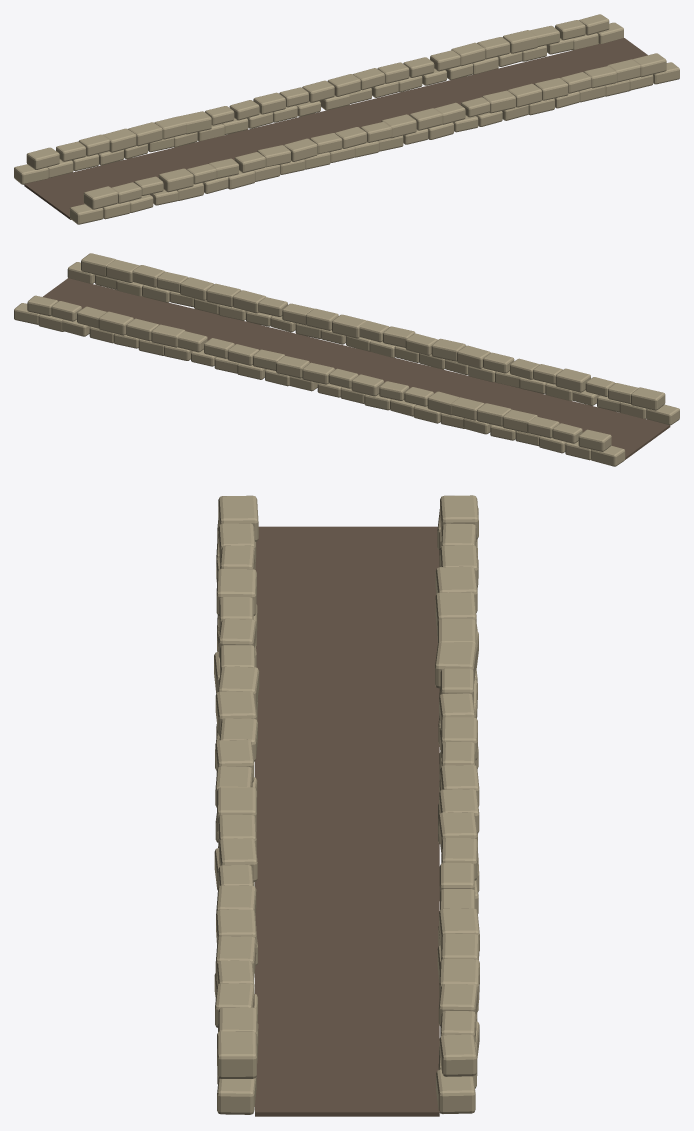
File: trinchera.glb
The picture shows the model from 3 angles, top to bottom: view 1: azimuth 30°, elevation 25°; view 2: azimuth 150°, elevation 25°; view 3: azimuth 270°, elevation 25°; orthographic projection. The views are drawn at different scales.
Visible parts, largest first — view 1: Trinchera, Saco_Derecho_1_0, Saco_Derecho_1_3, Saco_Izquierdo_1_19, Saco_Izquierdo_1_0, Saco_Izquierdo_1_3, Saco_Izquierdo_1_4, Saco_Derecho_1_22, Saco_Derecho_1_17, Saco_Derecho_1_8, Saco_Derecho_1_12, Saco_Derecho_1_18 (+43 smaller); view 2: Trinchera, Saco_Derecho_1_0, Saco_Derecho_1_3, Saco_Izquierdo_1_19, Saco_Izquierdo_1_0, Saco_Derecho_1_12, Saco_Izquierdo_1_4, Saco_Derecho_1_17, Saco_Izquierdo_1_17, Saco_Derecho_1_18, Saco_Izquierdo_1_3, Saco_Derecho_1_8 (+46 smaller); view 3: Trinchera, Saco_Derecho_1_22, Saco_Izquierdo_1_22, Saco_Izquierdo_0_23, Saco_Derecho_0_23, Saco_Derecho_1_3, Saco_Izquierdo_1_6, Saco_Derecho_1_0, Saco_Derecho_1_8, Saco_Derecho_1_12, Saco_Izquierdo_1_0, Saco_Izquierdo_1_4 (+24 smaller).
Part boxes in pixels (left/top/right/bottom): Trinchera: left=24, top=38, right=647, bottom=219; Saco_Derecho_1_0: left=83, top=186, right=117, bottom=209; Saco_Derecho_1_3: left=158, top=168, right=193, bottom=192; Saco_Izquierdo_1_19: left=502, top=30, right=537, bottom=53; Saco_Izquierdo_1_0: left=26, top=147, right=59, bottom=169; Saco_Izquierdo_1_3: left=103, top=128, right=136, bottom=152; Saco_Izquierdo_1_4: left=128, top=122, right=162, bottom=146; Saco_Derecho_1_22: left=632, top=53, right=666, bottom=77; Saco_Derecho_1_17: left=508, top=83, right=541, bottom=107; Saco_Derecho_1_8: left=284, top=138, right=317, bottom=161; Saco_Derecho_1_12: left=381, top=114, right=416, bottom=138; Saco_Derecho_1_18: left=534, top=78, right=568, bottom=100; Trinchera: left=43, top=278, right=670, bottom=459; Saco_Derecho_1_0: left=631, top=387, right=665, bottom=410; Saco_Derecho_1_3: left=555, top=368, right=590, bottom=392; Saco_Izquierdo_1_19: left=98, top=311, right=133, bottom=335; Saco_Izquierdo_1_0: left=578, top=429, right=611, bottom=451; Saco_Derecho_1_12: left=332, top=314, right=366, bottom=338; Saco_Izquierdo_1_4: left=476, top=403, right=511, bottom=426; Saco_Derecho_1_17: left=206, top=283, right=240, bottom=307; Saco_Izquierdo_1_17: left=151, top=324, right=185, bottom=347; Saco_Derecho_1_18: left=180, top=277, right=213, bottom=300; Saco_Izquierdo_1_3: left=502, top=409, right=537, bottom=433; Saco_Derecho_1_8: left=431, top=338, right=465, bottom=361; Trinchera: left=255, top=526, right=439, bottom=1116; Saco_Derecho_1_22: left=217, top=1031, right=256, bottom=1078; Saco_Izquierdo_1_22: left=439, top=1034, right=476, bottom=1076; Saco_Izquierdo_0_23: left=436, top=1069, right=475, bottom=1113; Saco_Derecho_0_23: left=217, top=1076, right=256, bottom=1114; Saco_Derecho_1_3: left=216, top=569, right=256, bottom=615; Saco_Izquierdo_1_6: left=435, top=642, right=476, bottom=688; Saco_Derecho_1_0: left=218, top=495, right=258, bottom=541; Saco_Derecho_1_8: left=215, top=691, right=256, bottom=736; Saco_Derecho_1_12: left=217, top=787, right=256, bottom=833; Saco_Izquierdo_1_0: left=440, top=495, right=478, bottom=539; Saco_Izquierdo_1_4: left=435, top=592, right=476, bottom=636.
Bounding box in the file's own units: 12.07 × 0.4718 × 2.3.
